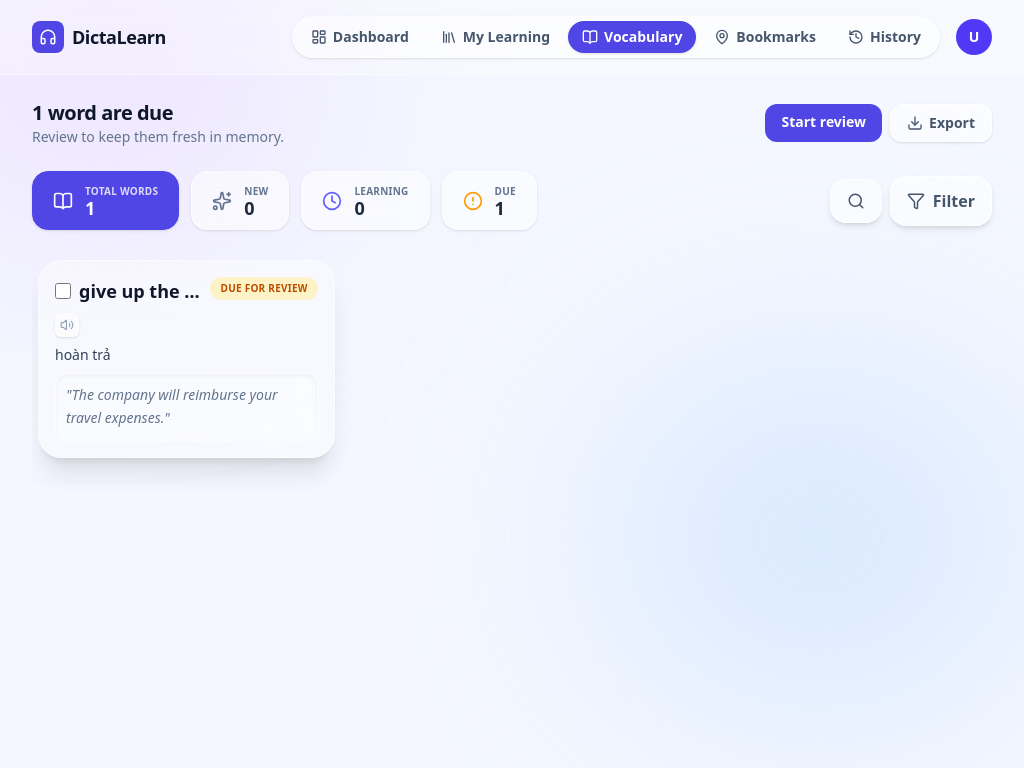
Test: VocabularyPage › counts Type and Status as separate active filter dimensions on the collapsed Filter button
Check: the number of elements with test id "vocab-card" is 1, box [38,260,335,458]
Check: the button "Filter" is shown, box [890,176,992,226]
Click the button with test id "vocab-stat-due" at (489, 200), box [442,171,537,230]
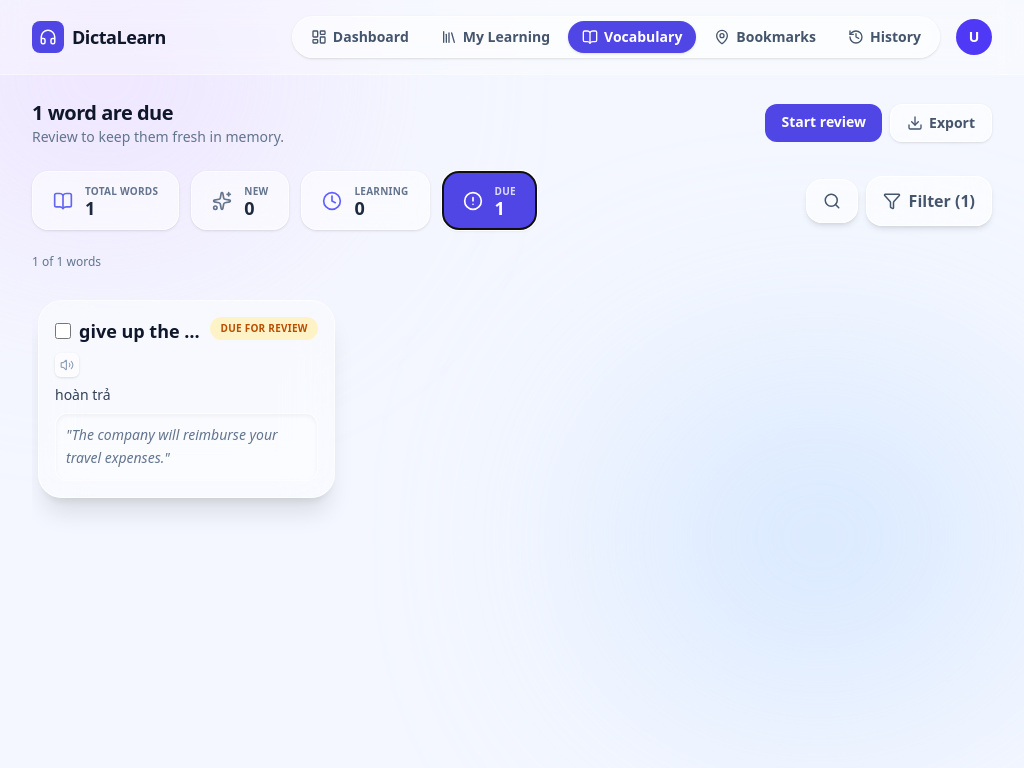
Check: the button "Filter (1)" is shown
Click the button "Filter (1)" at (929, 200), box [866,176,992,226]
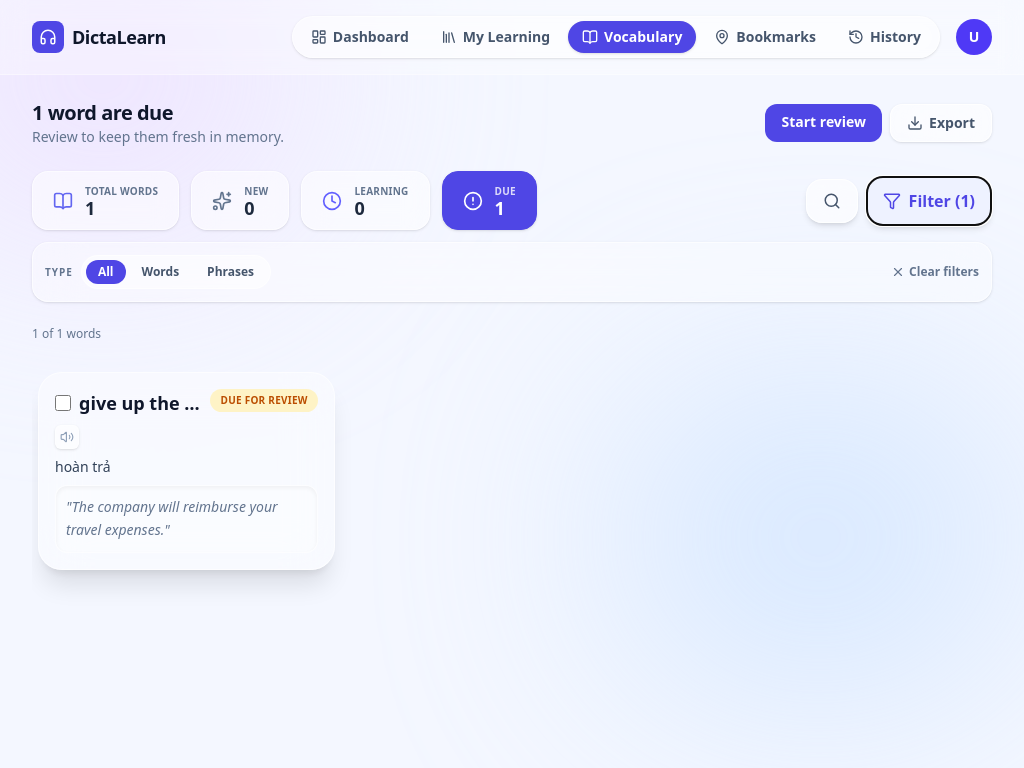
Click the button "Phrases" at (231, 272), box [195,260,266,284]
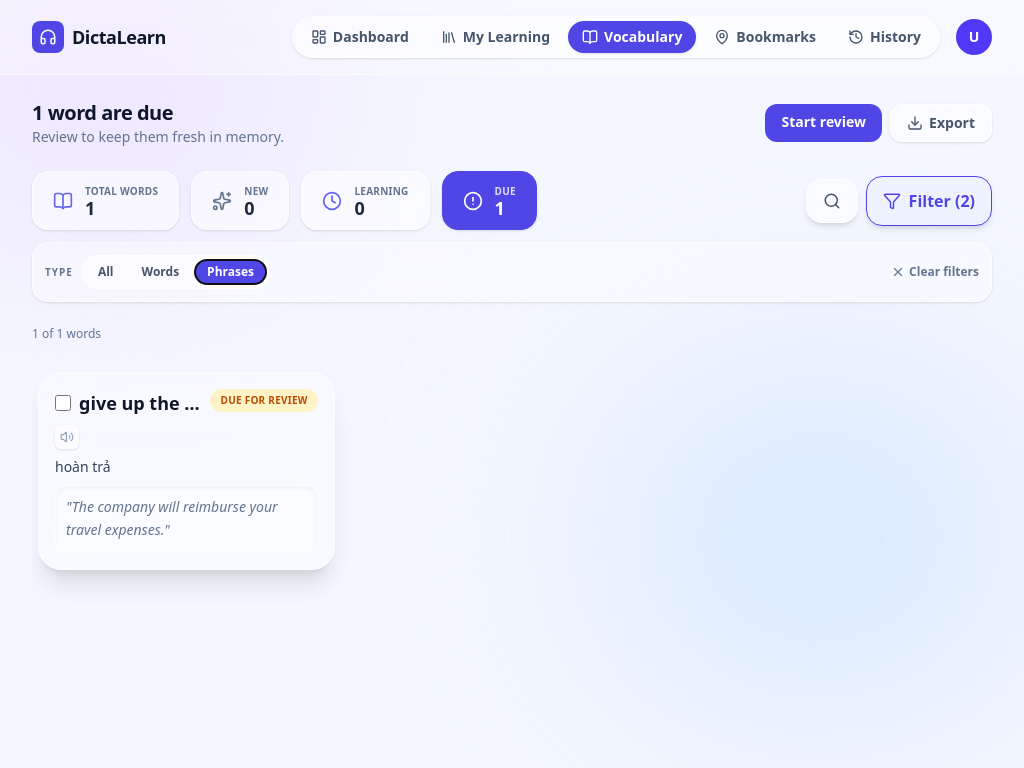
Check: the button "Filter (2)" is shown, box [866,176,992,226]
